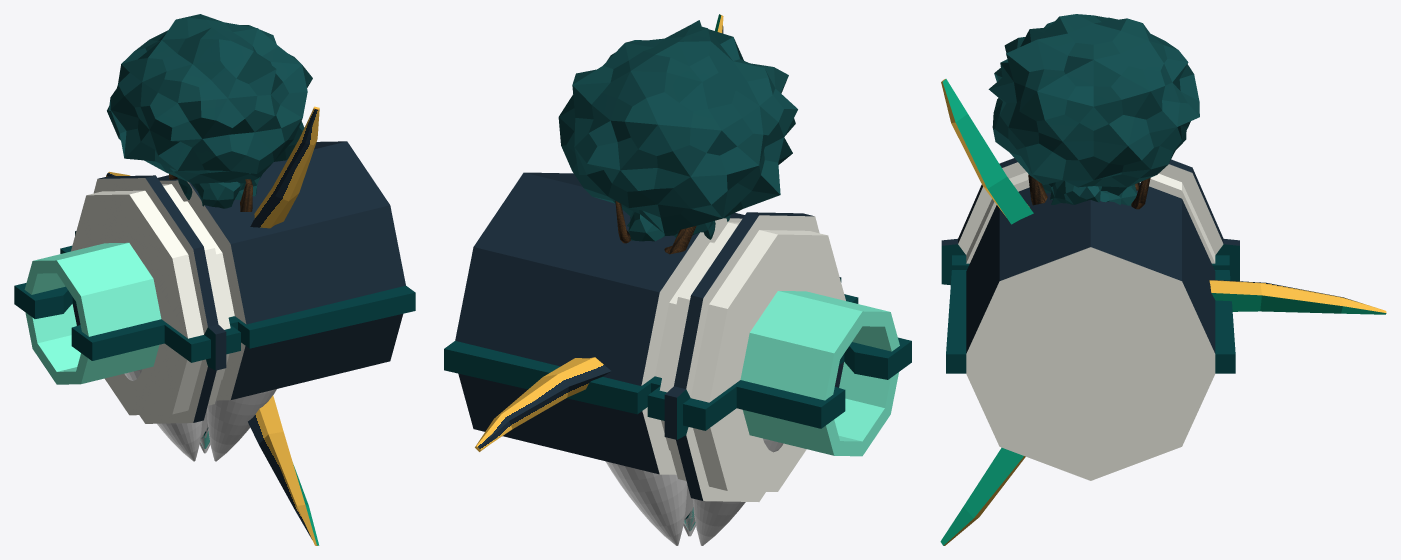
Rendered from Buildings_Scene_Scene_Collection.fbx.
3 views of the same model, side by side, from view 1: azimuth 30°, elevation 25°; view 2: azimuth 150°, elevation 25°; view 3: azimuth 270°, elevation 25° (orthographic). The views are drawn at different scales.
Visible parts, largest first — view 1: ConnectorEnd, Cube, WindMillBlades, Cylinder.004, Tree_1, Cylinder.002; view 2: ConnectorEnd, Cube, WindMillBlades, Cylinder.003, Cylinder.002, Tree_1; view 3: ConnectorEnd, Cube, WindMillBlades, Tree_1.
Part boxes in pixels (<box>): ConnectorEnd: <box>14,141,415,423</box>; Cube: <box>107,14,312,211</box>; WindMillBlades: <box>106,106,319,545</box>; Cylinder.004: <box>207,389,276,461</box>; Tree_1: <box>177,174,262,208</box>; Cylinder.002: <box>124,369,202,461</box>; ConnectorEnd: <box>444,172,911,501</box>; Cube: <box>558,20,797,254</box>; WindMillBlades: <box>475,14,723,451</box>; Cylinder.003: <box>605,461,687,545</box>; Cylinder.002: <box>692,438,783,545</box>; Tree_1: <box>627,211,730,241</box>; ConnectorEnd: <box>941,158,1239,480</box>; Cube: <box>988,14,1199,209</box>; WindMillBlades: <box>940,79,1386,545</box>; Tree_1: <box>1042,180,1137,205</box>.
Bounding box in the file's own units: 928 × 1442 × 1151.
